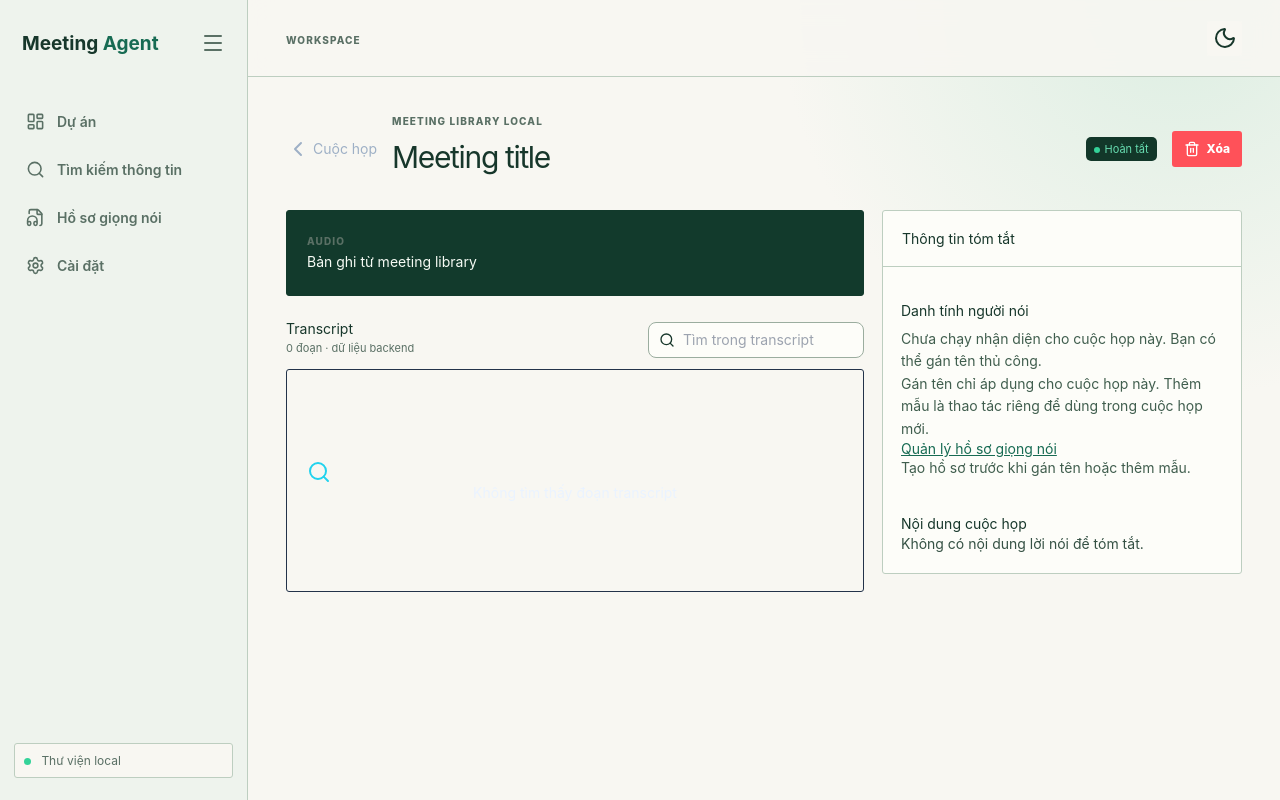
Test: deletes a completed meeting after confirmation and returns to the project library
Expected: the heading "Meeting title" is shown, [392,139,550,175]
Click the button "Xóa". click: (1207,148)
box: [1172,130,1242,166]
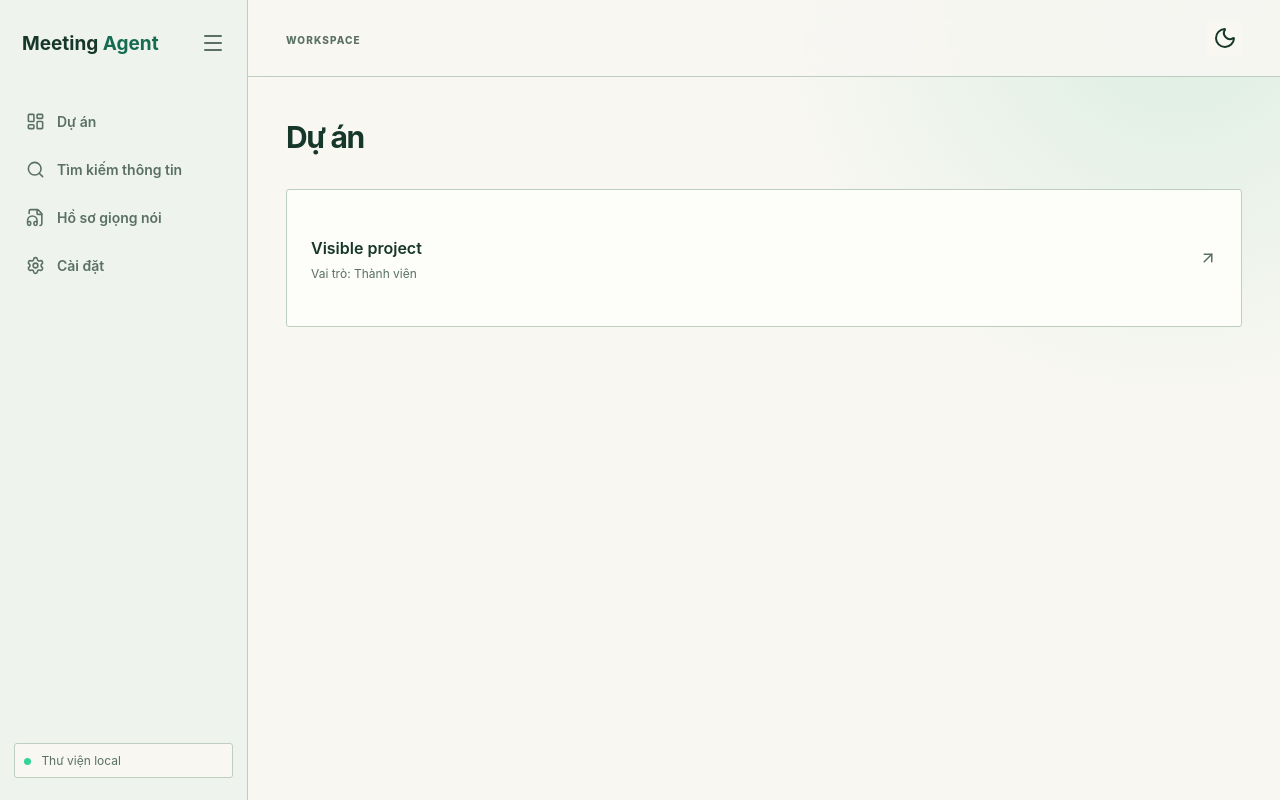
Expected: the link "Visible project Vai trò: Thành viên" is shown, [311,238,1217,280]
